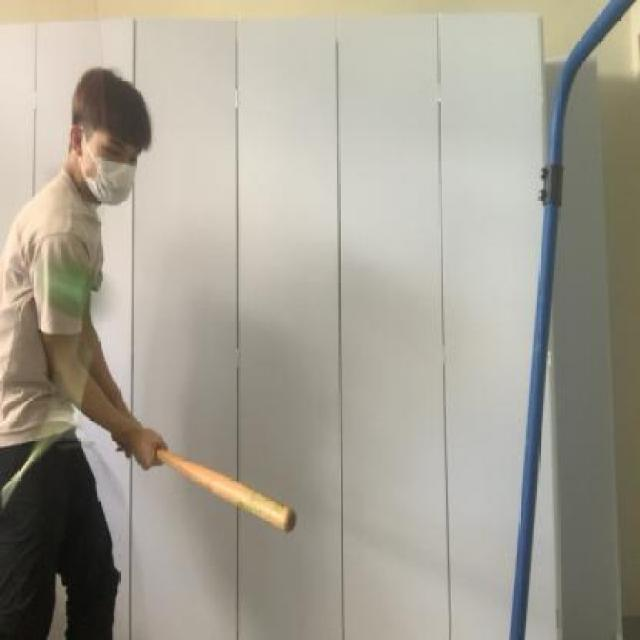baseball: (0, 243, 145, 351)
